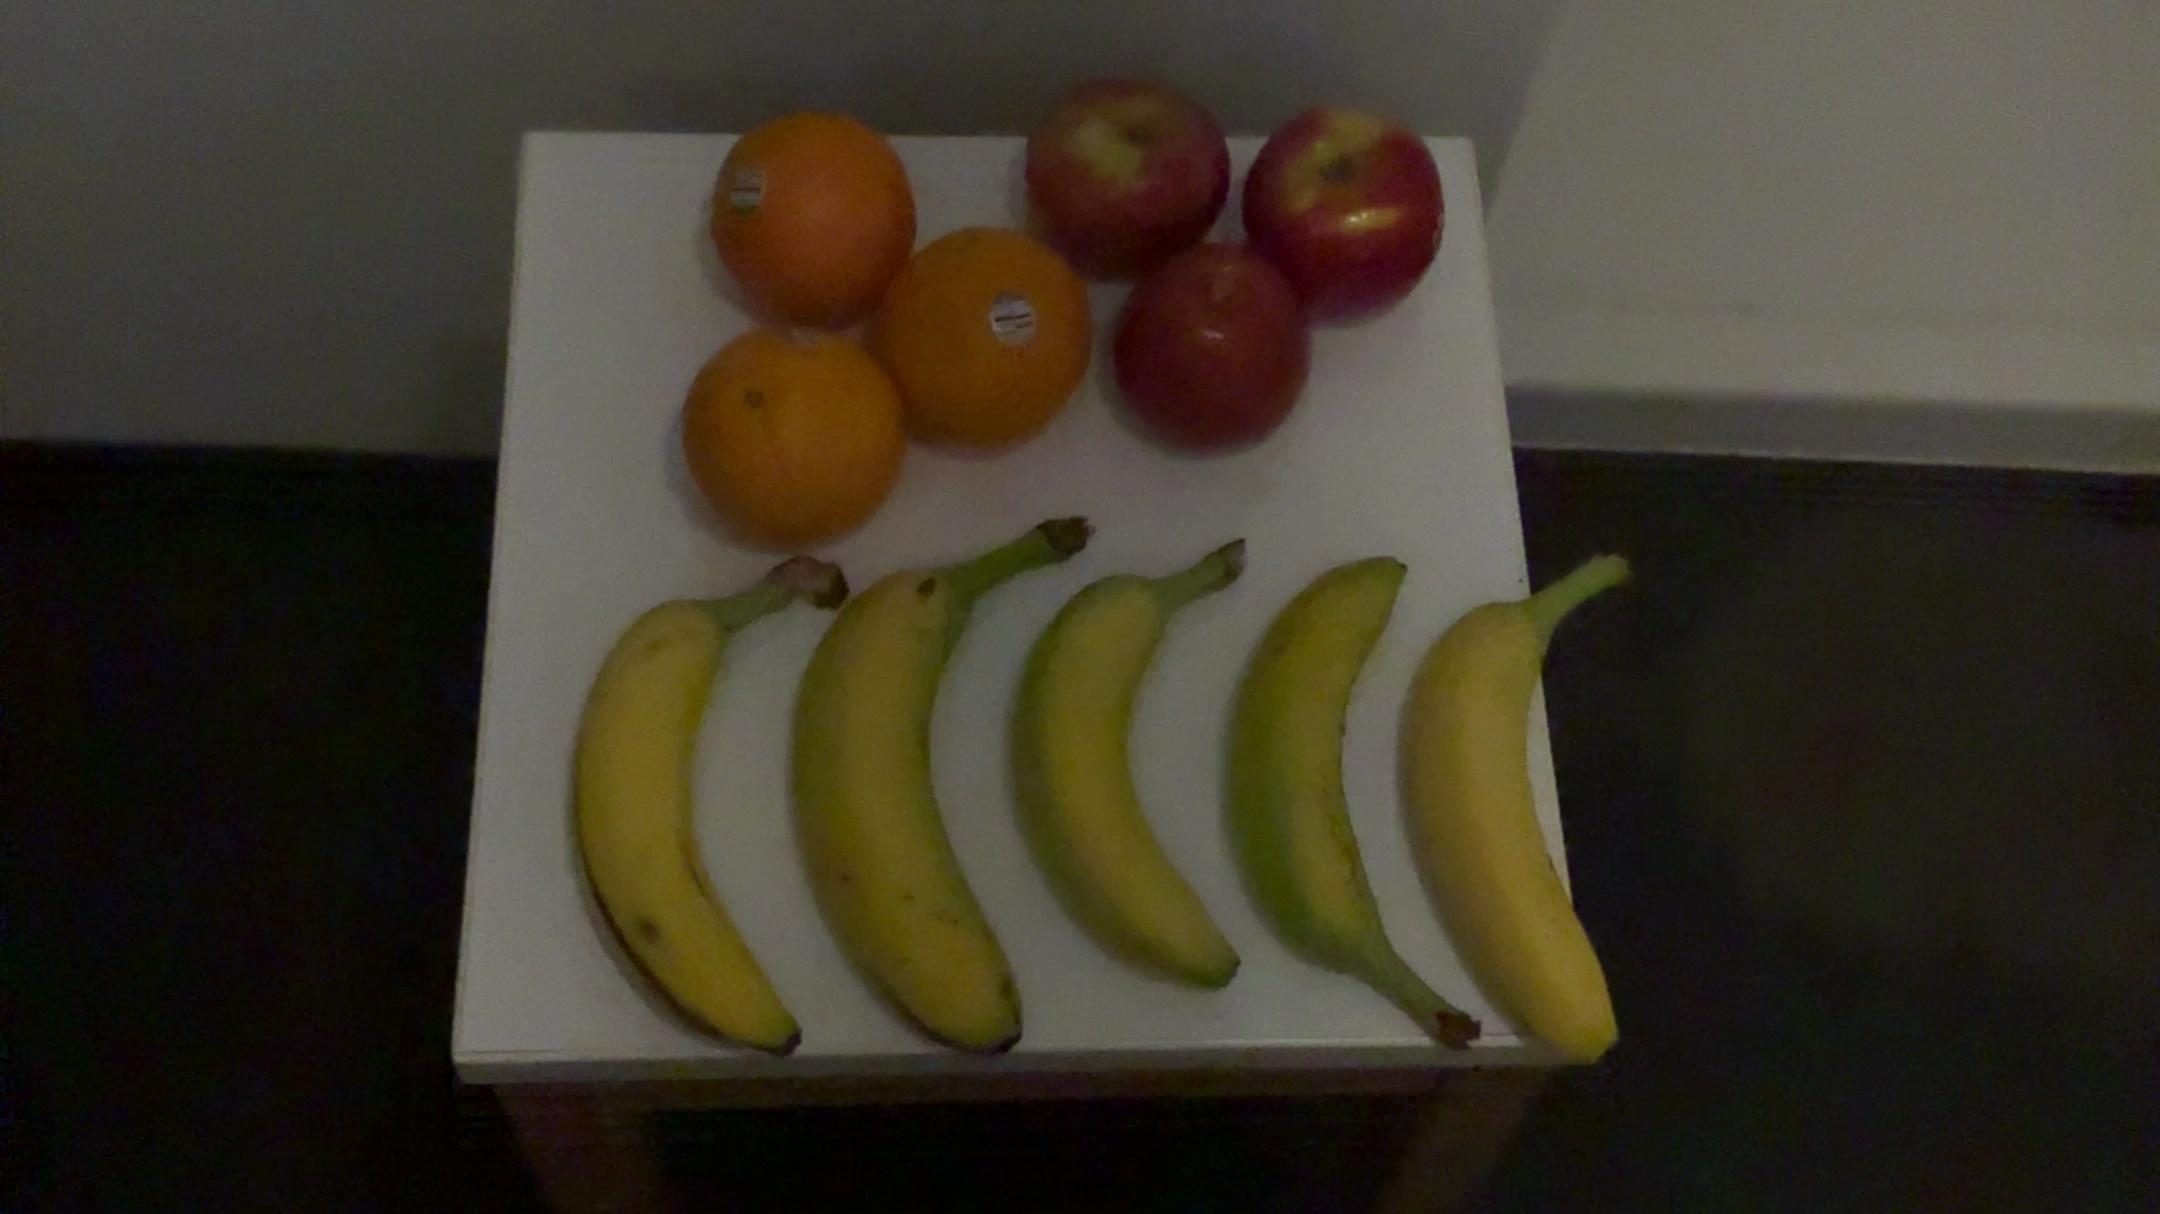apple: (1227, 85, 1461, 346), (1101, 246, 1314, 470), (1007, 67, 1219, 275)
banana: (794, 505, 1070, 1067), (1397, 528, 1667, 1088), (565, 549, 846, 1066), (1227, 534, 1488, 1076), (1003, 525, 1260, 1028)
orange: (869, 233, 1096, 475), (663, 309, 887, 539), (702, 101, 912, 329)
